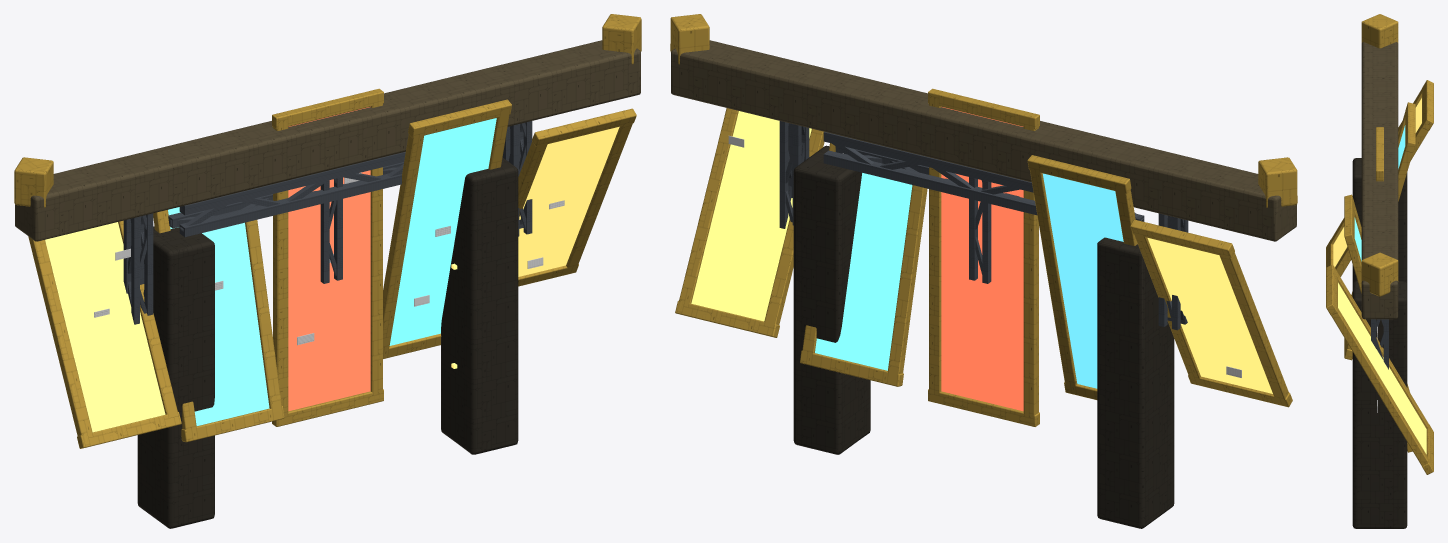
Rendered from place_landmark_billboard_array.glb.
The picture shows the model from 3 angles, left to right: view 1: azimuth 30°, elevation 25°; view 2: azimuth 150°, elevation 25°; view 3: azimuth 270°, elevation 25°; orthographic projection. The views are drawn at different scales.
Visible parts, largest first — view 1: LOD0_Armor, LOD0_Hull, LOD0_Livery_gold, LOD0_Lights_Warm_ad, LOD1_Armor, LOD0_Lights_Cyan_ad, LOD0_HOOK_NAV_PORT_ad, LOD0_Mechanical, LOD1_Mechanical, LOD1_Hull, LOD0_MechanicalDark; view 2: LOD0_Armor, LOD0_Livery_gold, LOD0_Hull, LOD1_Armor, LOD0_Lights_Warm_ad, LOD0_Lights_Cyan_ad, LOD0_HOOK_NAV_PORT_ad, LOD0_Mechanical, LOD1_Mechanical, LOD1_Hull; view 3: LOD0_Armor, LOD0_Livery_gold, LOD0_Hull, LOD1_Armor, LOD0_Lights_Warm_ad, LOD0_Mechanical, LOD0_Lights_Cyan_ad, LOD1_Hull, LOD1_Mechanical, LOD2_Hull, LOD1_Livery_gold.
Part boxes in pixels (<box>): LOD0_Armor: <box>137,157,518,528</box>; LOD0_Hull: <box>15,40,640,241</box>; LOD0_Livery_gold: <box>14,14,641,448</box>; LOD0_Lights_Warm_ad: <box>45,126,619,432</box>; LOD1_Armor: <box>138,159,518,528</box>; LOD0_Lights_Cyan_ad: <box>168,118,496,425</box>; LOD0_HOOK_NAV_PORT_ad: <box>288,106,370,411</box>; LOD0_Mechanical: <box>123,121,532,324</box>; LOD1_Mechanical: <box>123,121,532,323</box>; LOD1_Hull: <box>15,50,640,240</box>; LOD0_MechanicalDark: <box>94,172,564,345</box>; LOD0_Armor: <box>793,146,1174,528</box>; LOD0_Livery_gold: <box>670,14,1297,426</box>; LOD0_Hull: <box>671,40,1296,241</box>; LOD1_Armor: <box>793,146,1174,528</box>; LOD0_Lights_Warm_ad: <box>691,111,1272,393</box>; LOD0_Lights_Cyan_ad: <box>815,173,1123,388</box>; LOD0_HOOK_NAV_PORT_ad: <box>941,106,1023,411</box>; LOD0_Mechanical: <box>779,121,1188,330</box>; LOD1_Mechanical: <box>779,121,1187,329</box>; LOD1_Hull: <box>671,40,1292,240</box>; LOD0_Armor: <box>1352,158,1407,528</box>; LOD0_Livery_gold: <box>1326,14,1433,474</box>; LOD0_Hull: <box>1361,42,1398,319</box>; LOD1_Armor: <box>1352,158,1407,528</box>; LOD0_Lights_Warm_ad: <box>1333,98,1426,454</box>; LOD0_Mechanical: <box>1371,319,1388,369</box>; LOD0_Lights_Cyan_ad: <box>1354,125,1405,261</box>; LOD1_Hull: <box>1362,42,1397,318</box>; LOD1_Mechanical: <box>1371,319,1388,368</box>; LOD2_Hull: <box>1362,55,1397,319</box>; LOD1_Livery_gold: <box>1326,14,1398,312</box>.
Size of what is drawn, in the model's own units: 66.06 by 38.6 by 11.84.
Materials: 8 (5 with a texture image).
